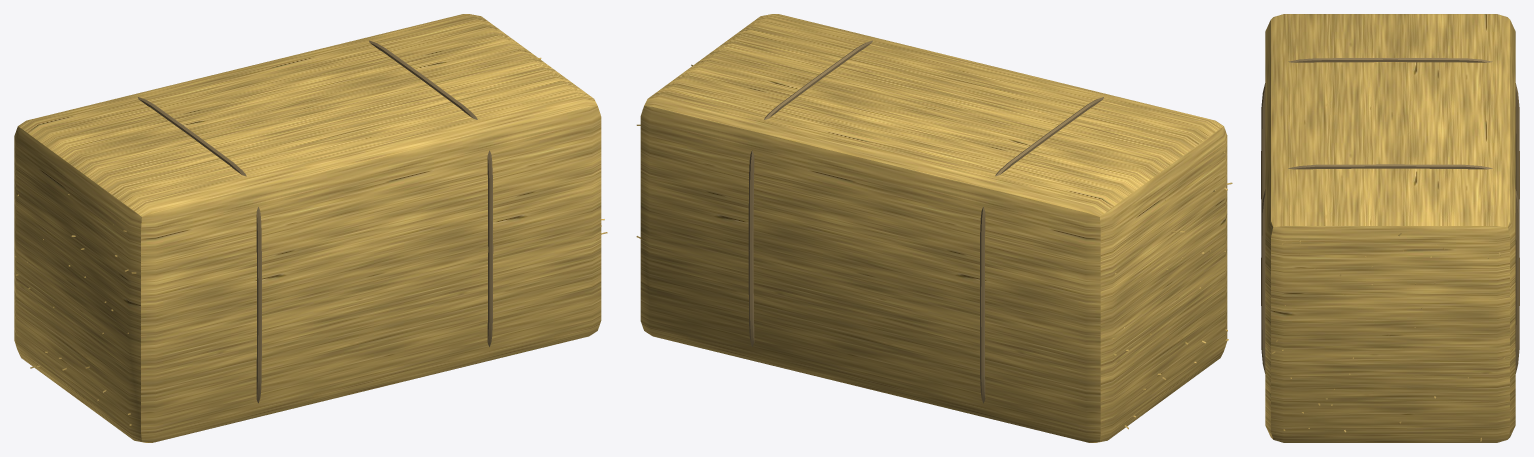
The model's file is hay_bale.glb.
3 renders of one model, left to right at view 1: azimuth 30°, elevation 25°; view 2: azimuth 150°, elevation 25°; view 3: azimuth 270°, elevation 25°, orthographic. The views are drawn at different scales.
Visible parts, largest first — view 1: HayBaleBody; view 2: HayBaleBody; view 3: HayBaleBody.
Part boxes in pixels (x1,y1,x2,y2): HayBaleBody: (14,14,607,442); HayBaleBody: (636,14,1232,442); HayBaleBody: (1261,14,1519,442).
Size of the model in its own units: 0.9933 by 0.493 by 0.493.
Materials: 2 (2 with a texture image).
